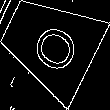O_NW: (20, 13, 79, 74)
